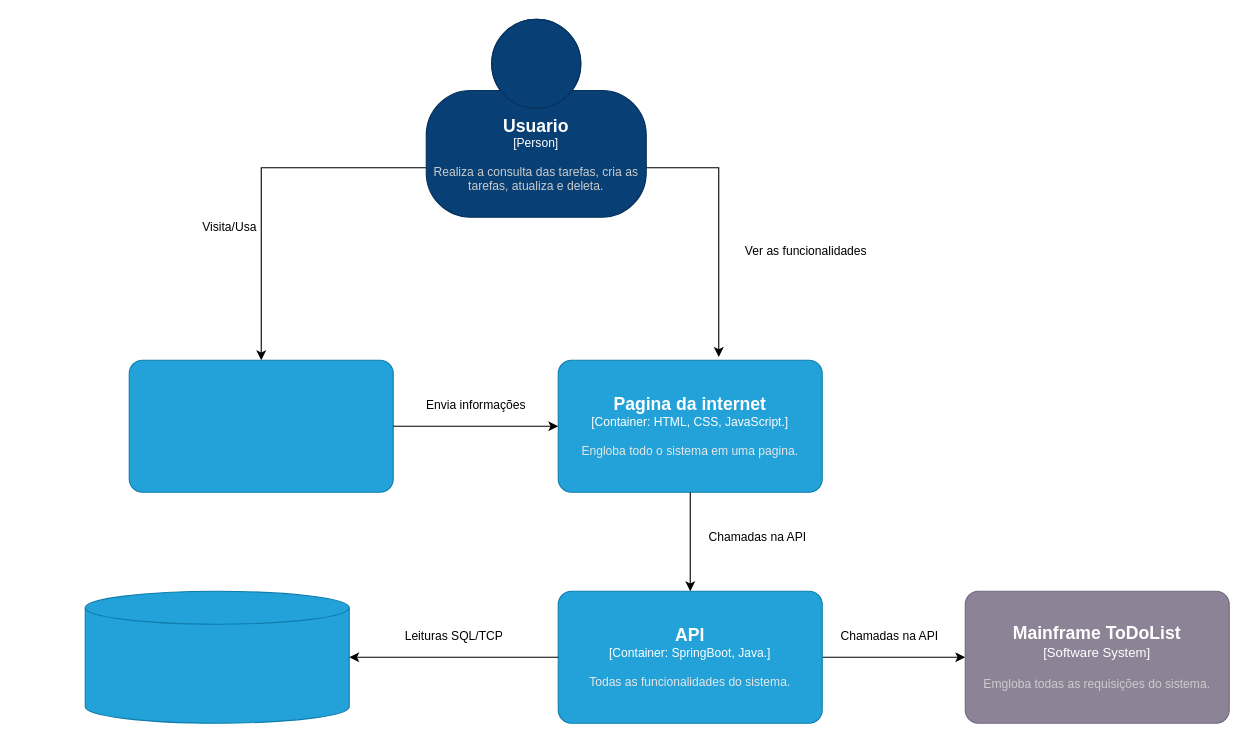
This 1249x743 diagram has some shape labels left out. The shapes that lost their labels are listed below. From the top down, each one's box as (x1, y1, x2, y2) in pixels, then its label:
(128, 359, 393, 492): Aplicação Web [Container: SpringBoot, Java] Sistema de Lista de Tarefas.
(84, 590, 349, 723): H2 Server [SQL: H2 Server] Armazenamento.
